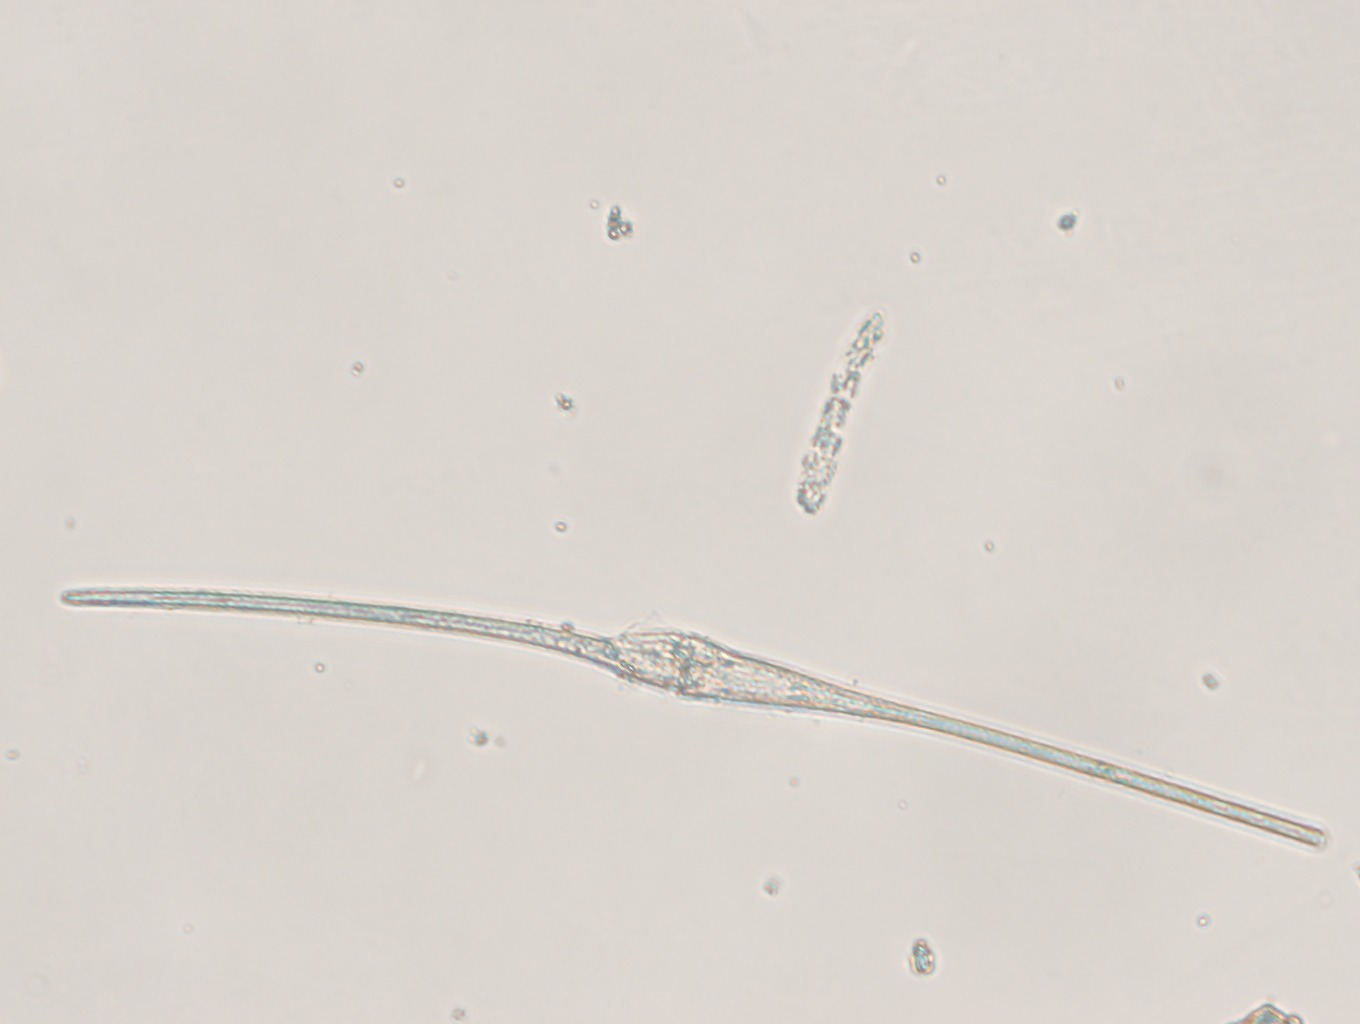ceratium fusus: (52, 575, 1344, 855)
